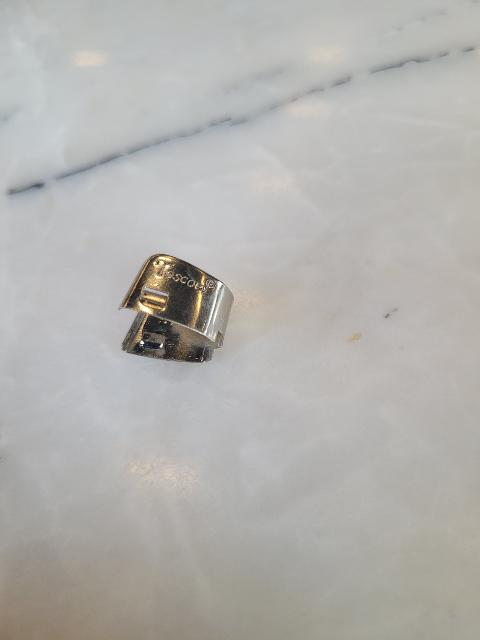Metal: (111, 252, 239, 370)
